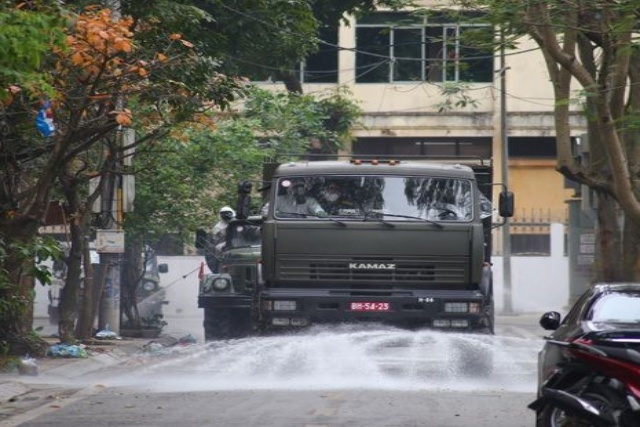plate: (348, 298, 390, 315)
